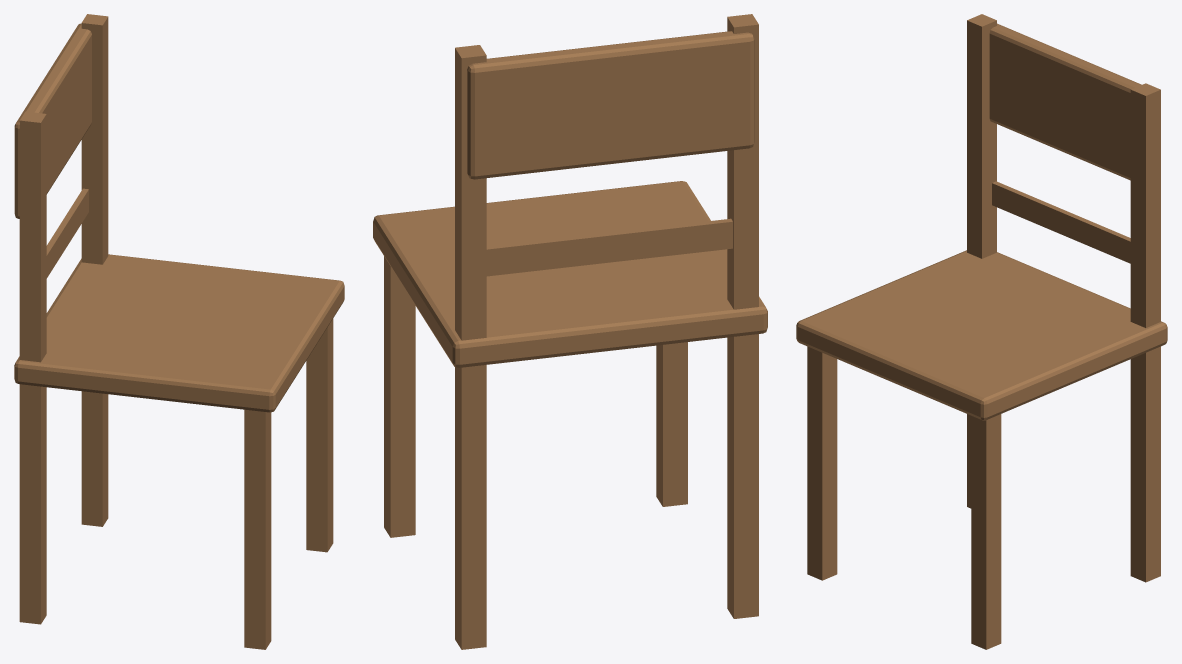
Rendered from Silla.fbx.
3 renders of one model, left to right at view 1: azimuth 30°, elevation 25°; view 2: azimuth 150°, elevation 25°; view 3: azimuth 270°, elevation 25°, orthographic. The views are drawn at different scales.
Visible parts, largest first — view 1: Deco_Silla_Dormitorio; view 2: Deco_Silla_Dormitorio; view 3: Deco_Silla_Dormitorio.
Boxes of the visible parts, bbox=[...] form: Deco_Silla_Dormitorio: bbox=[14, 14, 344, 649]; Deco_Silla_Dormitorio: bbox=[373, 14, 767, 649]; Deco_Silla_Dormitorio: bbox=[796, 14, 1167, 649].
Bounding box in the file's own units: 0.6086 × 0.88 × 0.6086.
